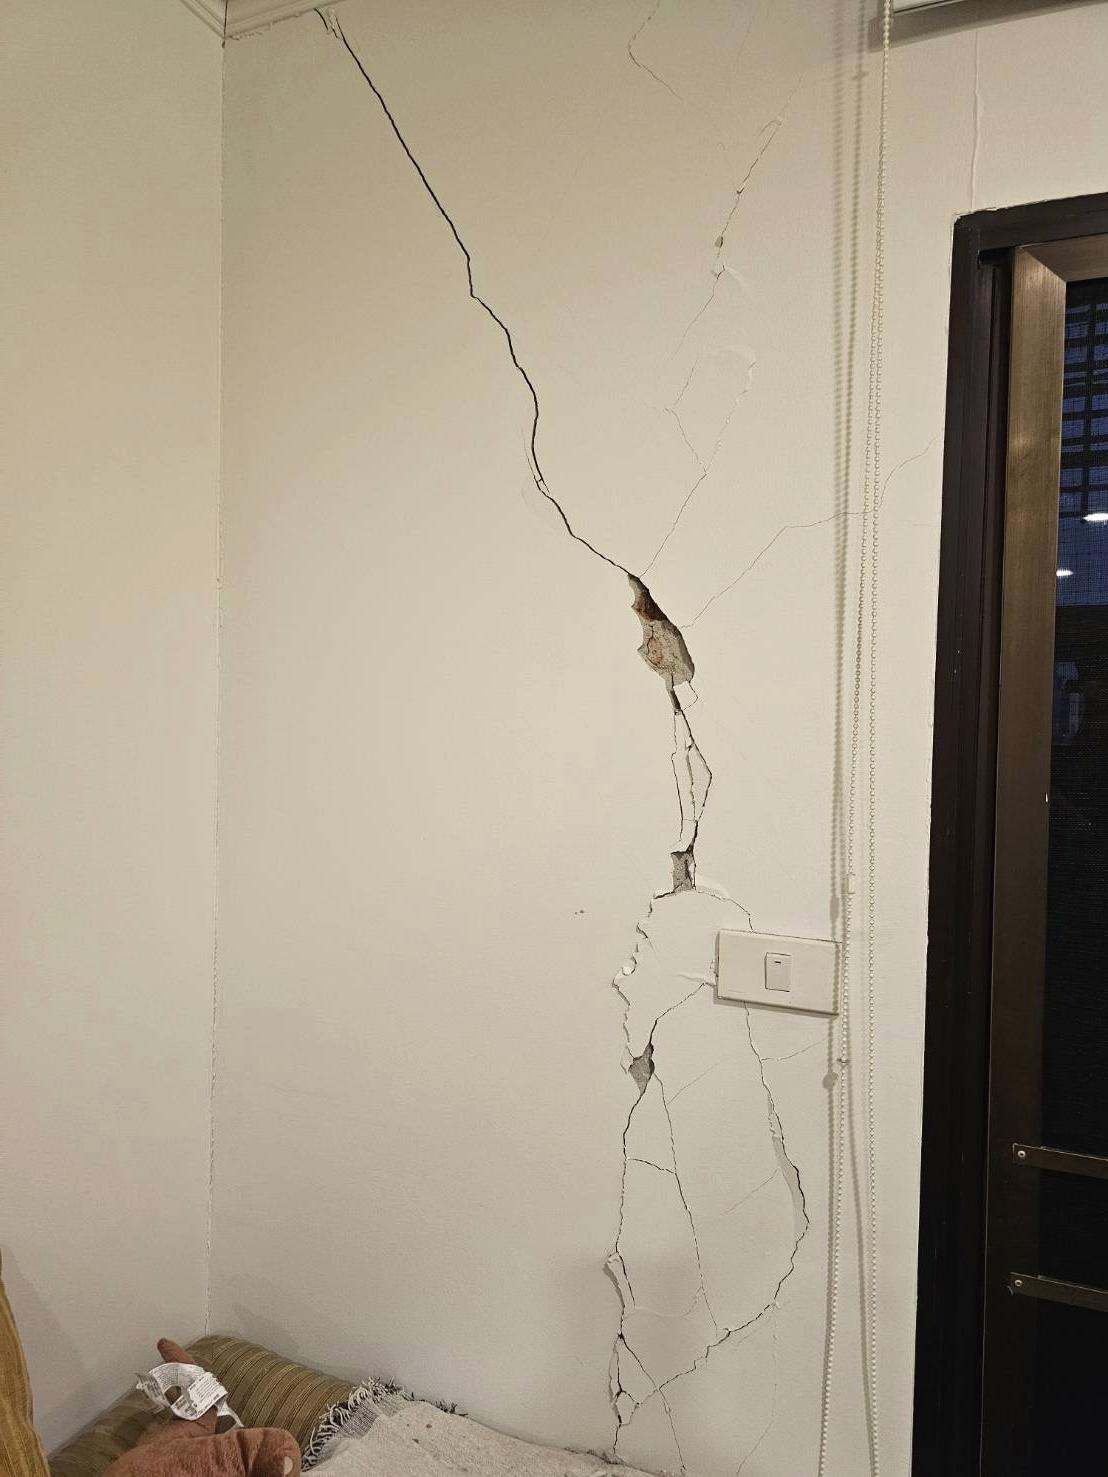High: (291, 13, 814, 1477)
